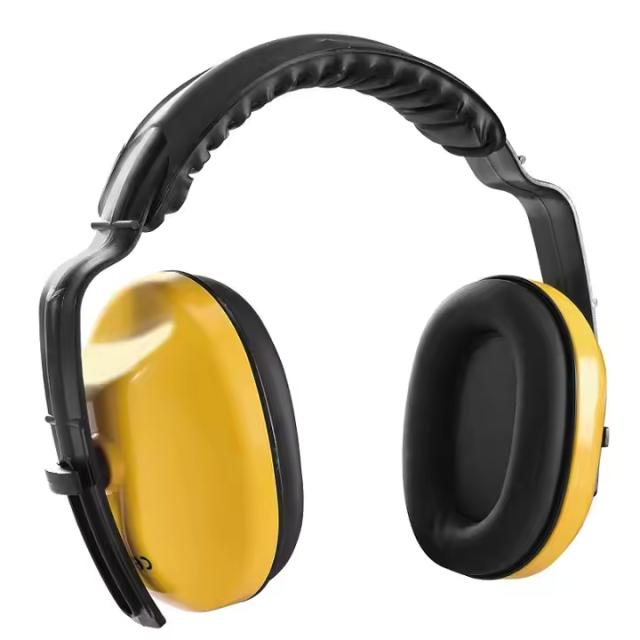Ear Muffs: (31, 253, 310, 632), (398, 262, 623, 592)
